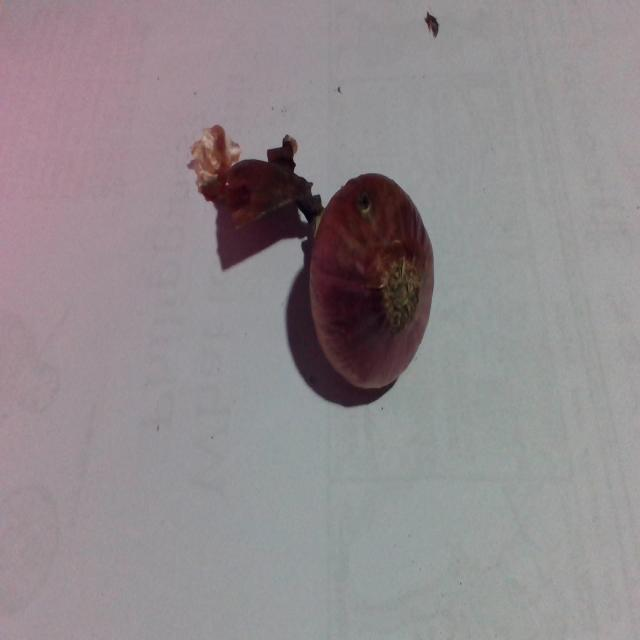onion: (305, 162, 443, 402)
